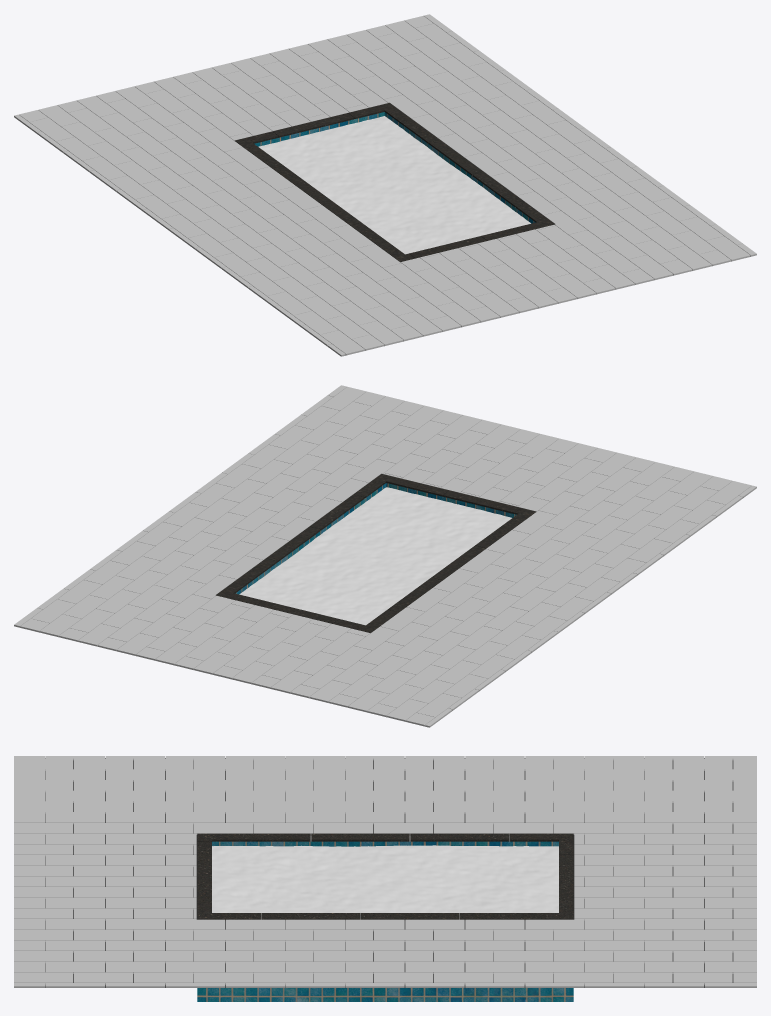
Rendered from Pool.fbx.
The picture shows the model from 3 angles, top to bottom: view 1: azimuth 30°, elevation 25°; view 2: azimuth 150°, elevation 25°; view 3: azimuth 270°, elevation 25°; orthographic projection. The views are drawn at different scales.
Visible parts, largest first — view 1: Stone TIles, Water, PoolEdges, Pool; view 2: Stone TIles, Water, PoolEdges, Pool; view 3: Stone TIles, Water, PoolEdges, Pool, Floor_Underground.
Boxes of the visible parts, left/top/right/bottom form: Stone TIles: left=14, top=14, right=756, bottom=356; Water: left=258, top=116, right=530, bottom=254; PoolEdges: left=235, top=103, right=554, bottom=262; Pool: left=254, top=112, right=535, bottom=223; Stone TIles: left=14, top=385, right=756, bottom=727; Water: left=239, top=487, right=511, bottom=625; PoolEdges: left=216, top=474, right=535, bottom=633; Pool: left=235, top=483, right=516, bottom=594; Stone TIles: left=14, top=756, right=756, bottom=987; Water: left=212, top=845, right=558, bottom=914; PoolEdges: left=197, top=833, right=573, bottom=920; Pool: left=197, top=835, right=573, bottom=1001; Floor_Underground: left=45, top=758, right=733, bottom=987.
Bounding box in the file's own units: 1100 × 184 × 1500.
